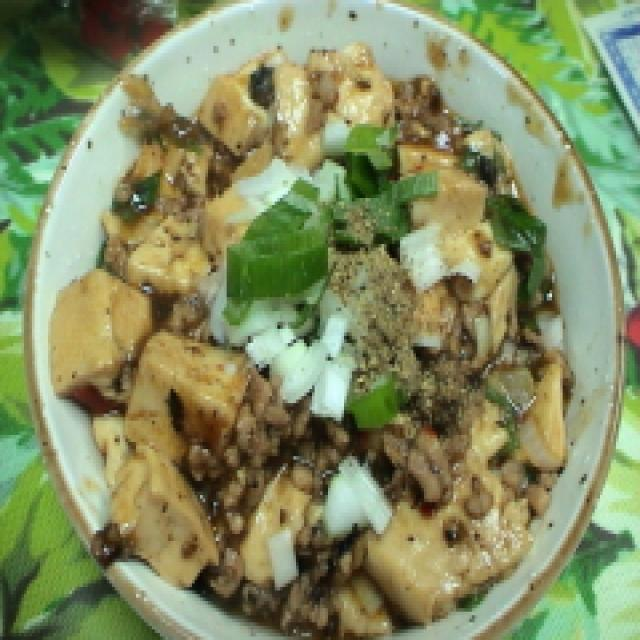豆腐料理: (16, 0, 627, 640)
